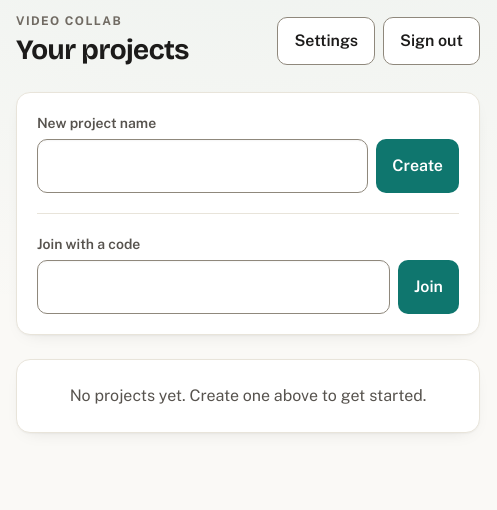
it: ProjectsPage › announces failure when create errors
The image size is (497, 510).
Expected: the text "No projects yet. Create one above to get started." is shown, [41, 384, 455, 408]
Type "Bad film" into the field labelled "New project name". click: (203, 166)
box: [37, 139, 368, 193]
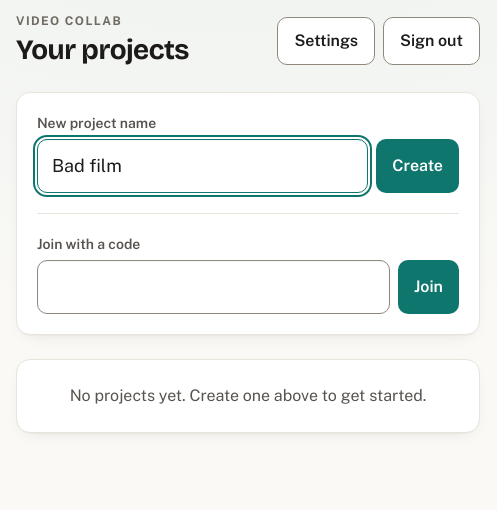
Click the button "Create". click: (418, 166)
box: [376, 139, 459, 193]
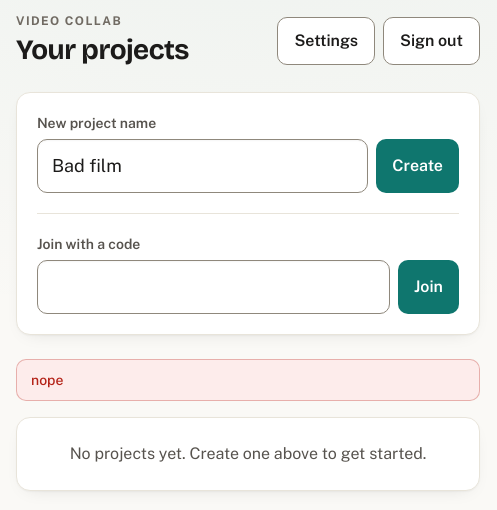
Expected: the text "nope" is shown, [16, 359, 480, 401]
